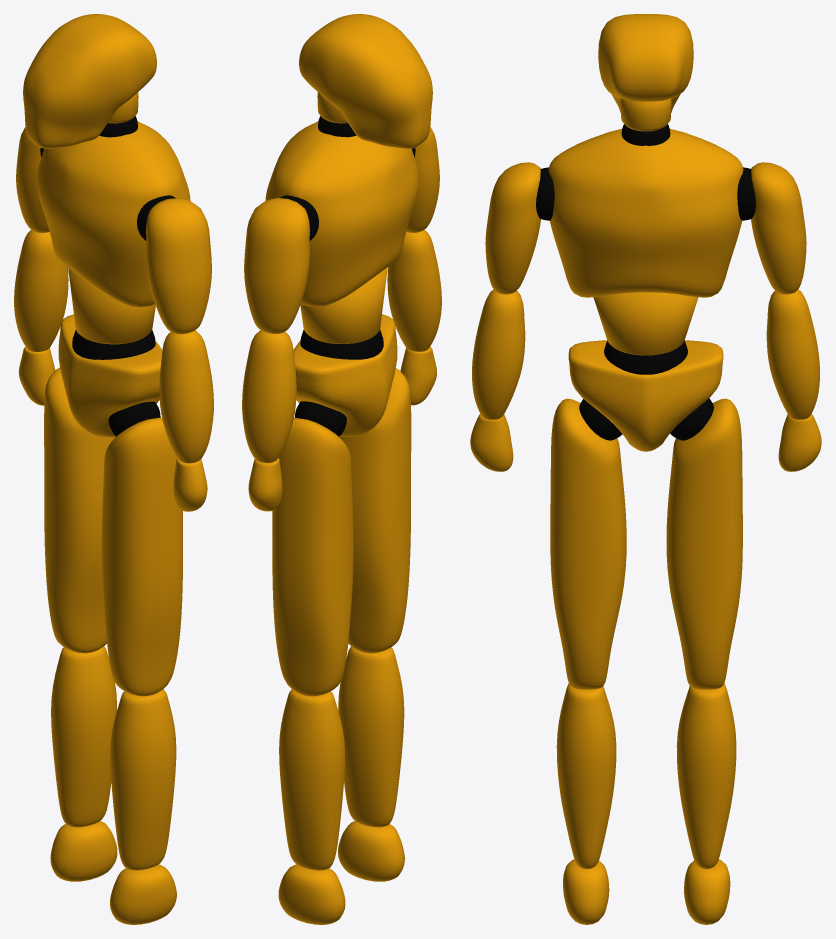
The model's file is dummy.fbx.
3 renders of one model, left to right at view 1: azimuth 30°, elevation 25°; view 2: azimuth 150°, elevation 25°; view 3: azimuth 270°, elevation 25°, orthographic.
Visible parts, largest first — view 1: Plane.004, Cube, Plane, Plane.003, Plane.005, Plane.001, Cube.004, Cube.003, Cube.006, Cube.002, Cylinder, Plane.002 (+9 smaller); view 2: Plane, Cube, Plane.004, Plane.003, Plane.001, Plane.005, Cube.001, Cube.003, Cube.002, Cube.006, Cylinder, Plane.006 (+9 smaller); view 3: Cube, Plane.004, Plane, Cube.003, Plane.005, Plane.001, Plane.003, Cube.004, Cube.001, Cube.002, Cube.006, Cylinder (+11 smaller).
Part boxes in pixels (x1,y1,x2,y2): Plane.004: (101, 417, 182, 696); Cube: (37, 121, 190, 307); Plane: (44, 367, 115, 653); Plane.003: (23, 14, 156, 148); Plane.005: (110, 689, 176, 870); Plane.001: (51, 646, 116, 827); Cube.004: (146, 198, 211, 334); Cube.003: (58, 314, 162, 437); Cube.006: (159, 330, 213, 463); Cube.002: (14, 230, 68, 351); Cylinder: (68, 267, 155, 344); Plane.002: (50, 821, 117, 881); Plane: (272, 418, 353, 696); Cube: (265, 121, 418, 307); Plane.004: (339, 368, 411, 653); Plane.003: (299, 14, 432, 148); Plane.001: (279, 689, 344, 870); Plane.005: (338, 646, 404, 827); Cube.001: (244, 198, 309, 333); Cube.003: (293, 314, 397, 436); Cube.002: (242, 330, 296, 462); Cube.006: (387, 229, 441, 351); Cylinder: (300, 267, 387, 343); Plane.006: (338, 821, 404, 881); Cube: (548, 129, 743, 297); Plane.004: (550, 398, 626, 689); Plane: (666, 398, 742, 689); Cube.003: (568, 340, 723, 451); Plane.005: (556, 683, 616, 869); Plane.001: (676, 683, 736, 869); Plane.003: (598, 14, 693, 112); Cube.004: (485, 162, 540, 294); Cube.001: (751, 162, 806, 294); Cube.002: (766, 289, 819, 419); Cube.006: (472, 289, 525, 419); Cylinder: (593, 292, 698, 355).
Bounding box in the file's own units: 29.94 × 178 × 63.43.
